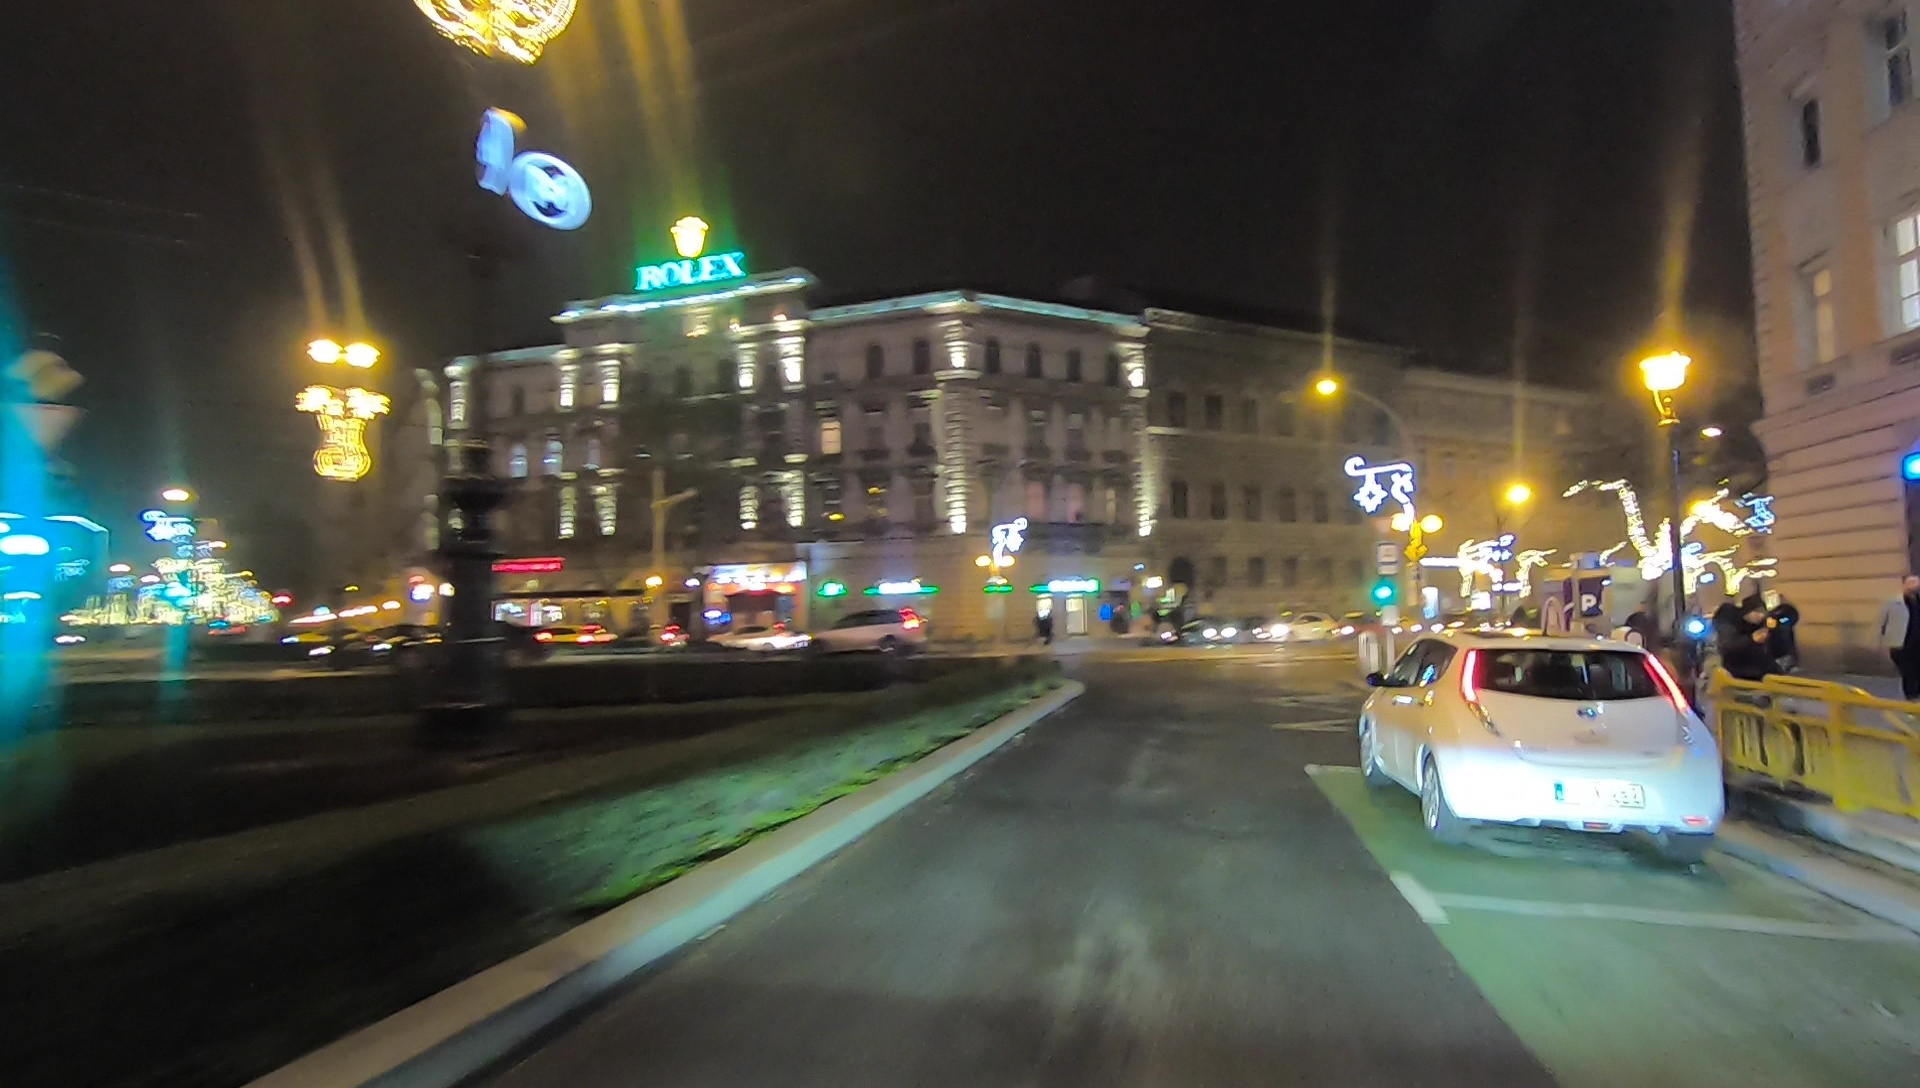person: (1715, 597, 1782, 756), (1882, 573, 1920, 707)
